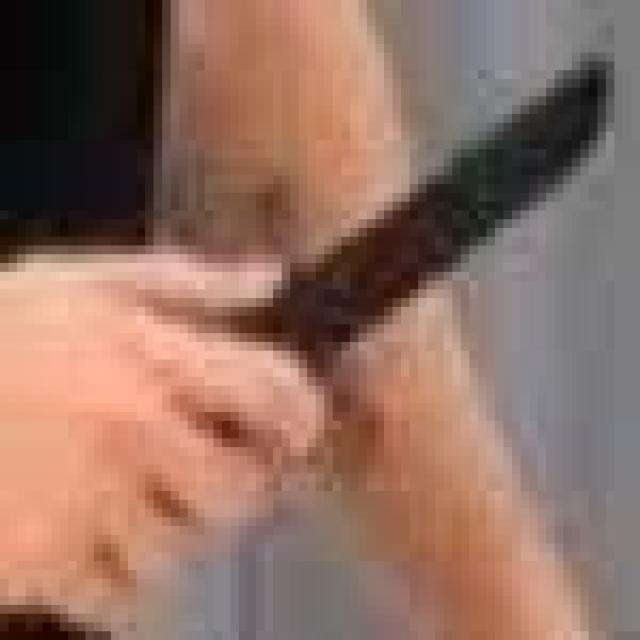Knife: (114, 51, 616, 474)
